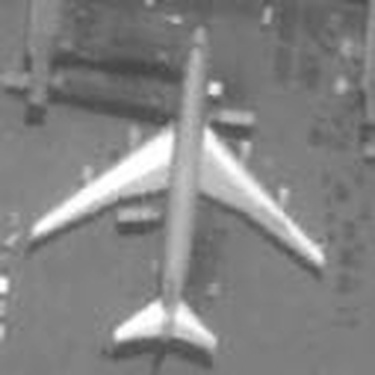airplane: (14, 16, 340, 363)
